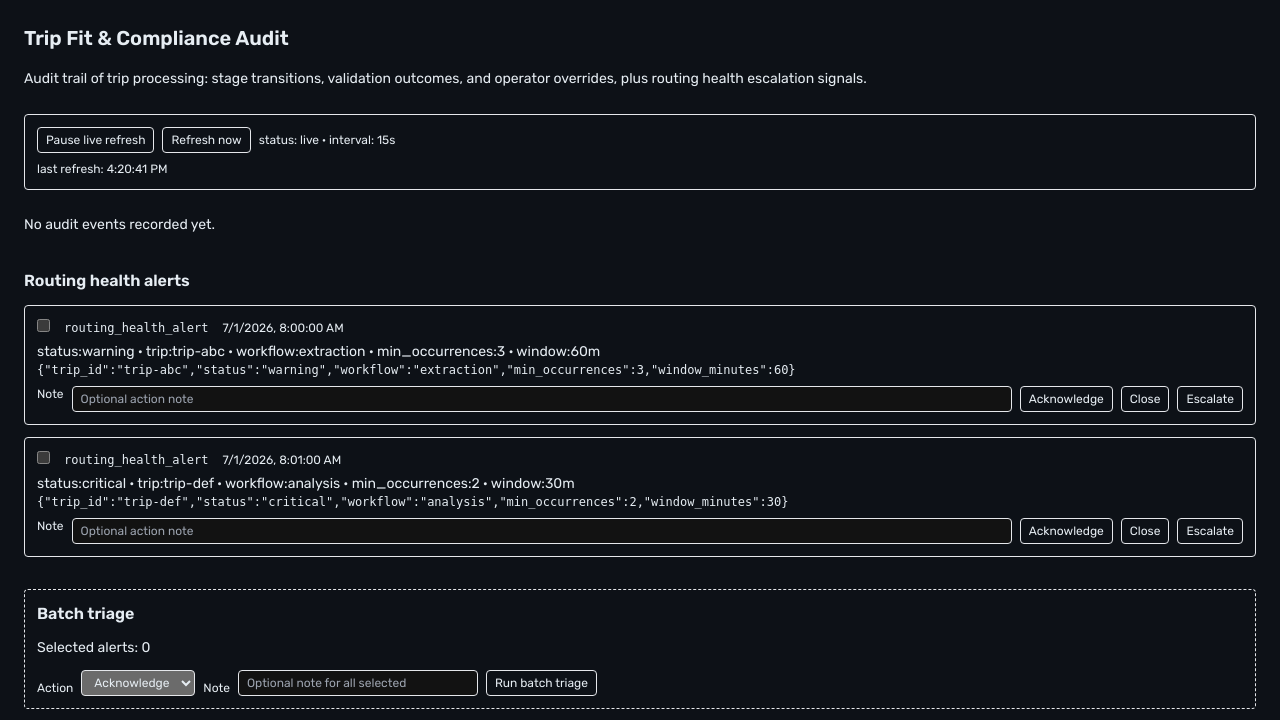
Test: AuditPage › supports batch triage across selected routing-health alerts
Expected: the heading "Routing health alerts" is shown, [24, 271, 190, 290]
Click the checkbox named "Select alert routing-alert-1" at (44, 325), box [37, 319, 50, 332]
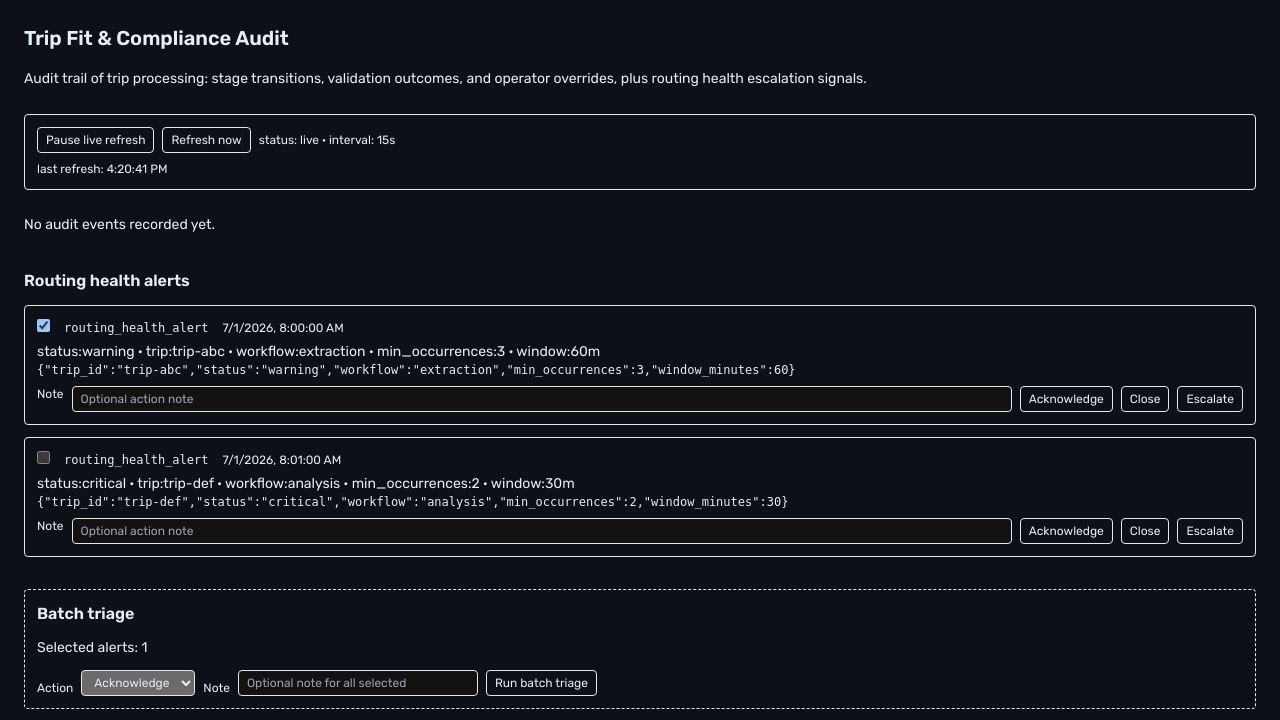
Click the checkbox named "Select alert routing-alert-2" at (44, 457), box [37, 451, 50, 464]
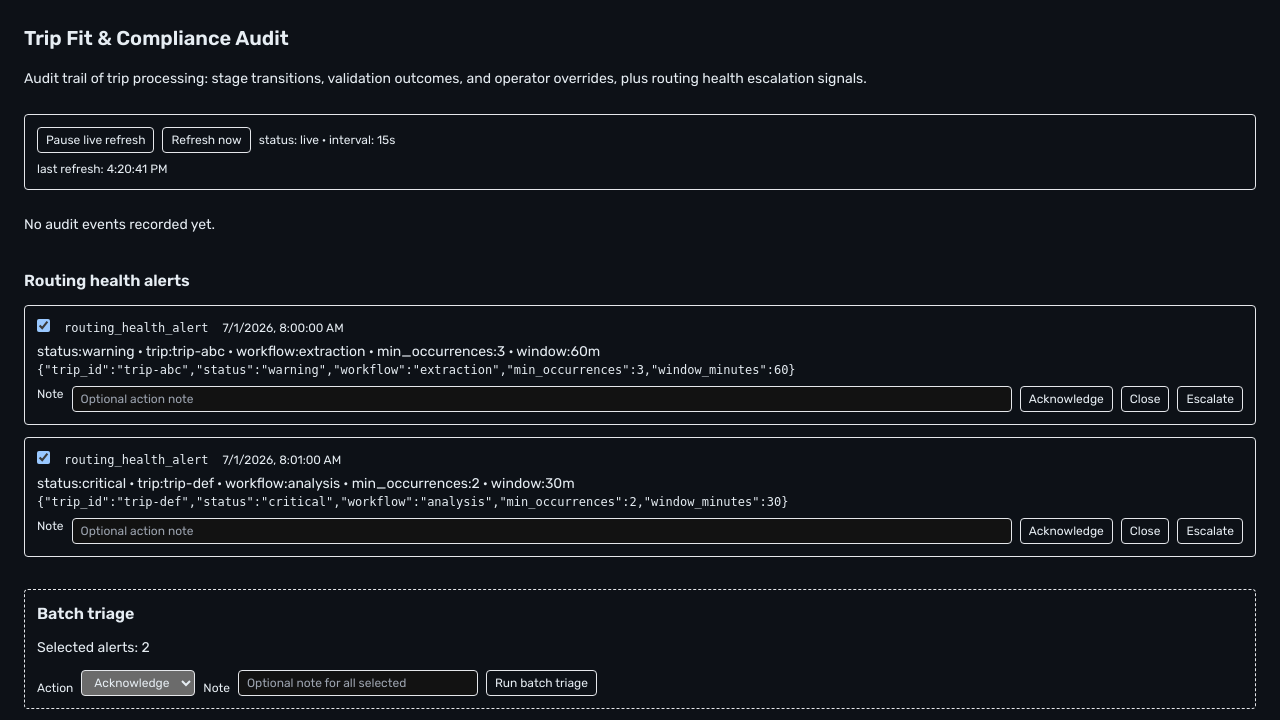
Select "Close" in the dropdown labelled "Action" at (138, 683), box [81, 670, 195, 696]
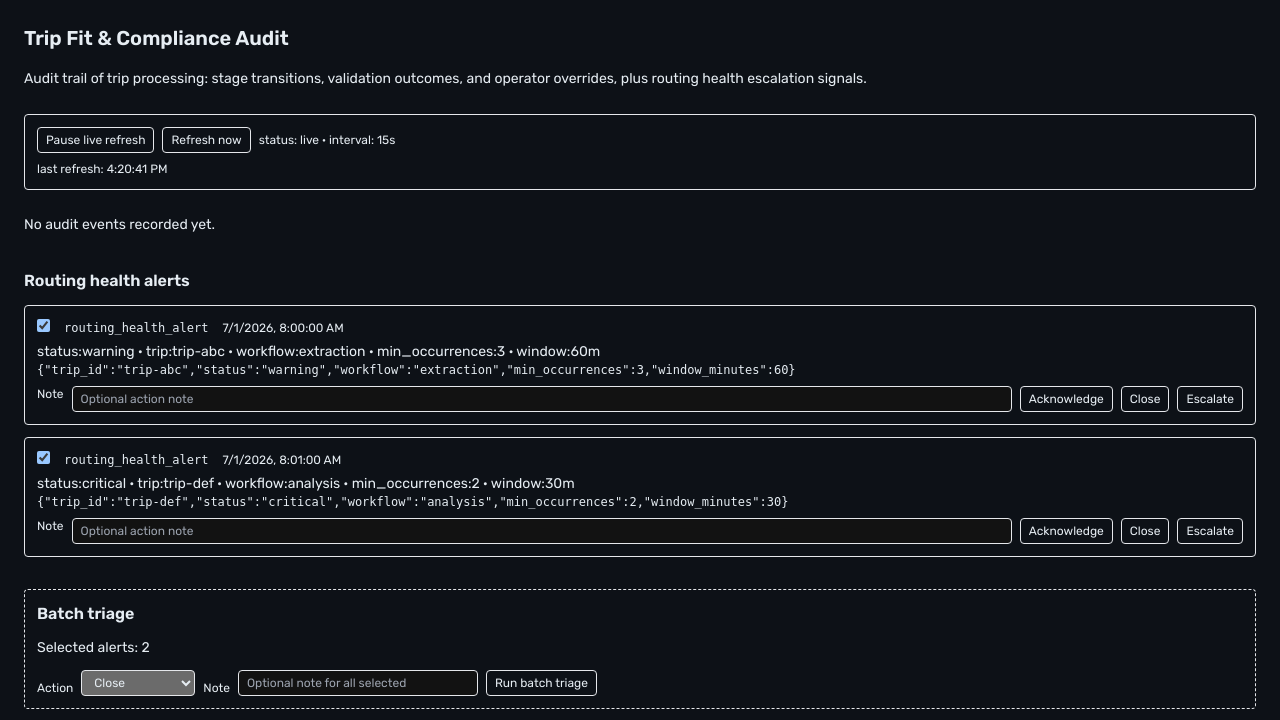
Type "Batch note for review" into the field labelled "Note" below "Selected alerts:" at (358, 683), box [238, 670, 478, 696]
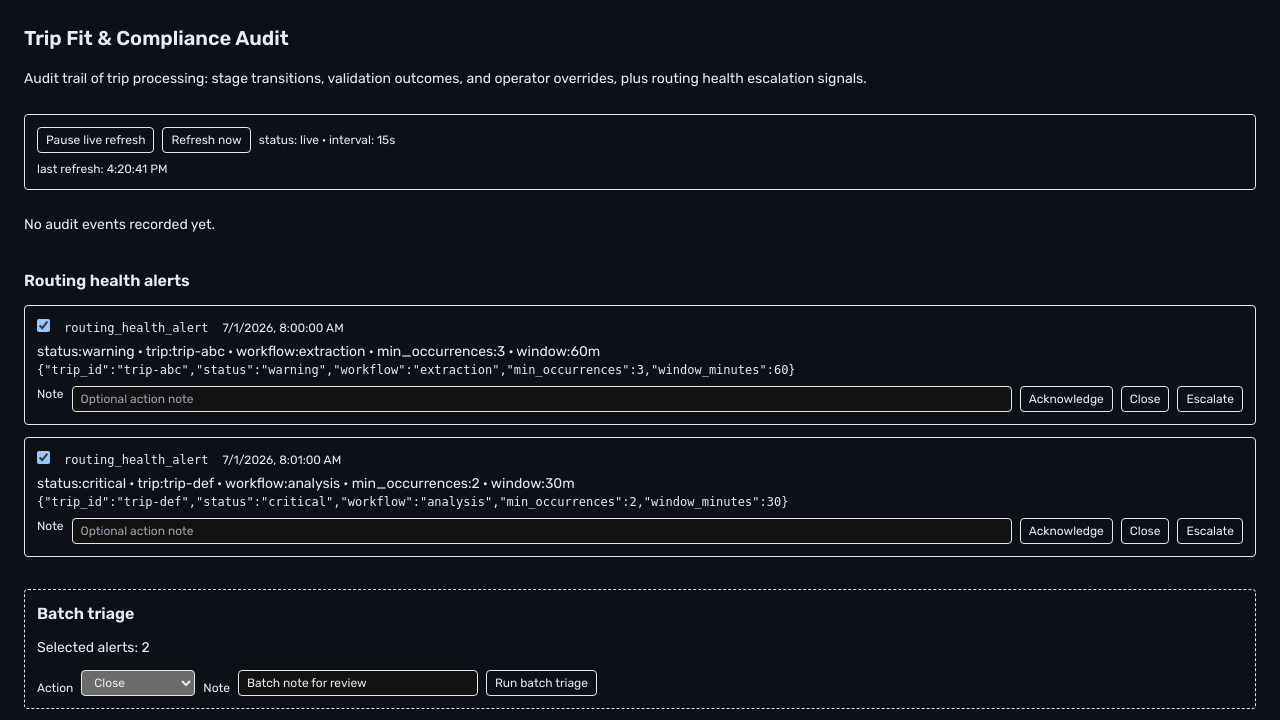
Click the button "Run batch triage" at (541, 683), box [486, 670, 597, 696]
(page scrolled)
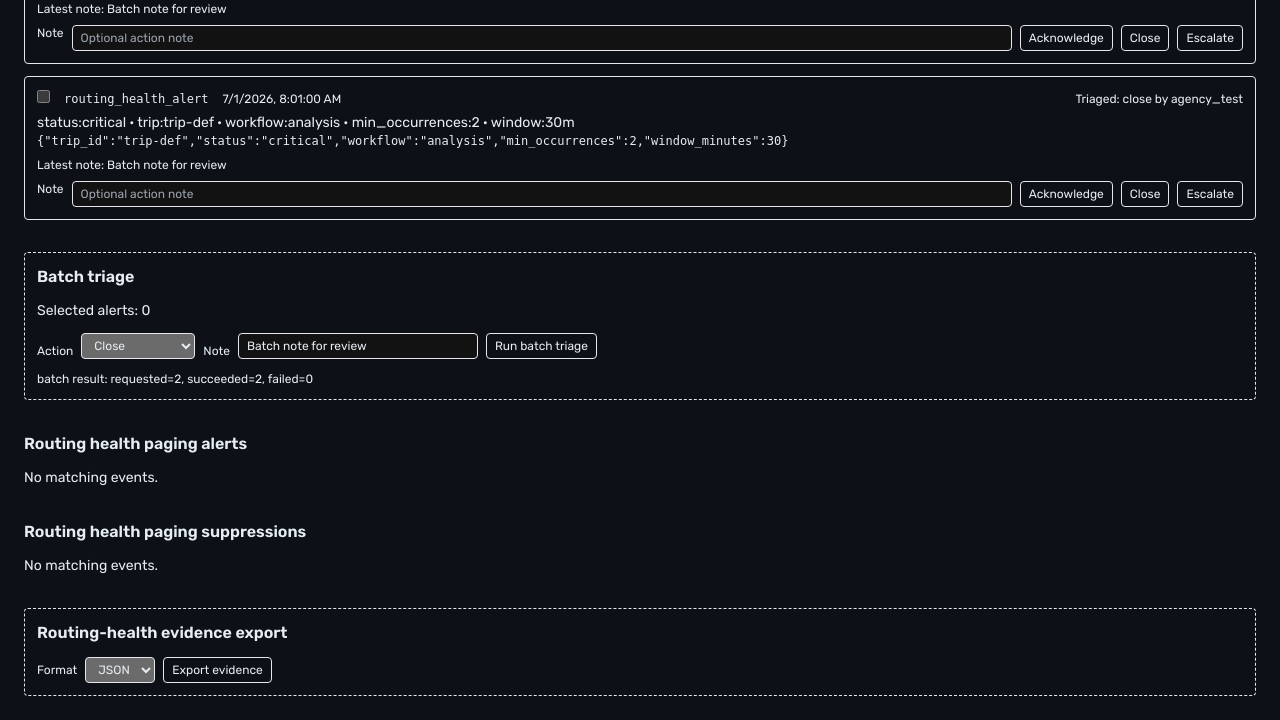
Expected: the text "batch result: requested=2, succeeded=2, failed=0" is shown, [37, 372, 313, 386]
